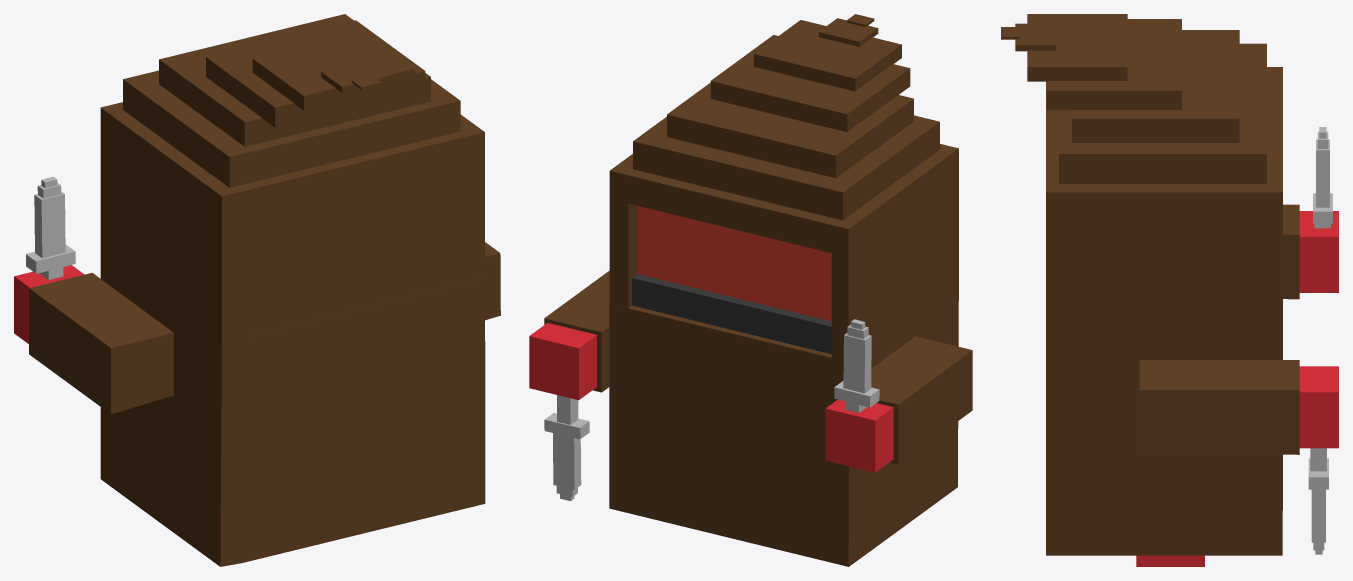
The model's file is assassin.fbx.
3 views of the same model, side by side, from view 1: azimuth 30°, elevation 25°; view 2: azimuth 150°, elevation 25°; view 3: azimuth 270°, elevation 25° (orthographic). The views are drawn at different scales.
Visible parts, largest first — view 1: Cube.084, Cube.001, Cube.008, Cube.061, Cube.011; view 2: Cube.084, Cube.001, Cube.008, Cube.011, Cube.041, Cube.061; view 3: Cube.084, Cube.001, Cube.011, Cube.008, Cube.041, Cube.061, Cube.037.
Part boxes in pixels (left/top/right/bottom): Cube.084: left=100, top=14, right=484, bottom=342; Cube.001: left=100, top=254, right=485, bottom=566; Cube.008: left=14, top=265, right=173, bottom=414; Cube.061: left=26, top=176, right=75, bottom=279; Cube.011: left=485, top=242, right=500, bottom=320; Cube.084: left=609, top=14, right=958, bottom=360; Cube.001: left=609, top=282, right=958, bottom=566; Cube.008: left=825, top=336, right=972, bottom=472; Cube.011: left=529, top=270, right=609, bottom=400; Cube.041: left=544, top=395, right=589, bottom=500; Cube.061: left=834, top=319, right=879, bottom=412; Cube.084: left=1001, top=14, right=1282, bottom=335; Cube.001: left=1046, top=335, right=1282, bottom=555; Cube.011: left=1139, top=360, right=1338, bottom=454; Cube.008: left=1283, top=204, right=1338, bottom=299; Cube.041: left=1308, top=448, right=1328, bottom=554; Cube.061: left=1313, top=127, right=1332, bottom=228; Cube.037: left=1136, top=555, right=1204, bottom=566.
Size of the model in its own units: 310 by 382 by 238.
